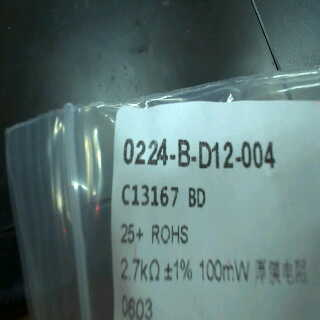2.7kR: (119, 257, 162, 285)
